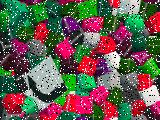Right: (23, 54, 68, 112)
